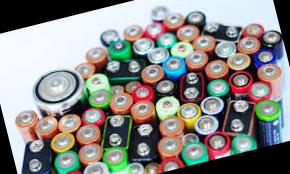battery: (19, 59, 88, 124), (9, 131, 62, 174), (257, 63, 290, 132), (250, 95, 290, 148), (8, 108, 39, 148), (200, 125, 234, 161), (26, 112, 62, 144), (79, 40, 112, 71), (177, 140, 208, 168), (225, 68, 253, 97), (136, 61, 167, 86), (106, 91, 134, 116), (79, 158, 112, 174), (53, 167, 87, 174)
